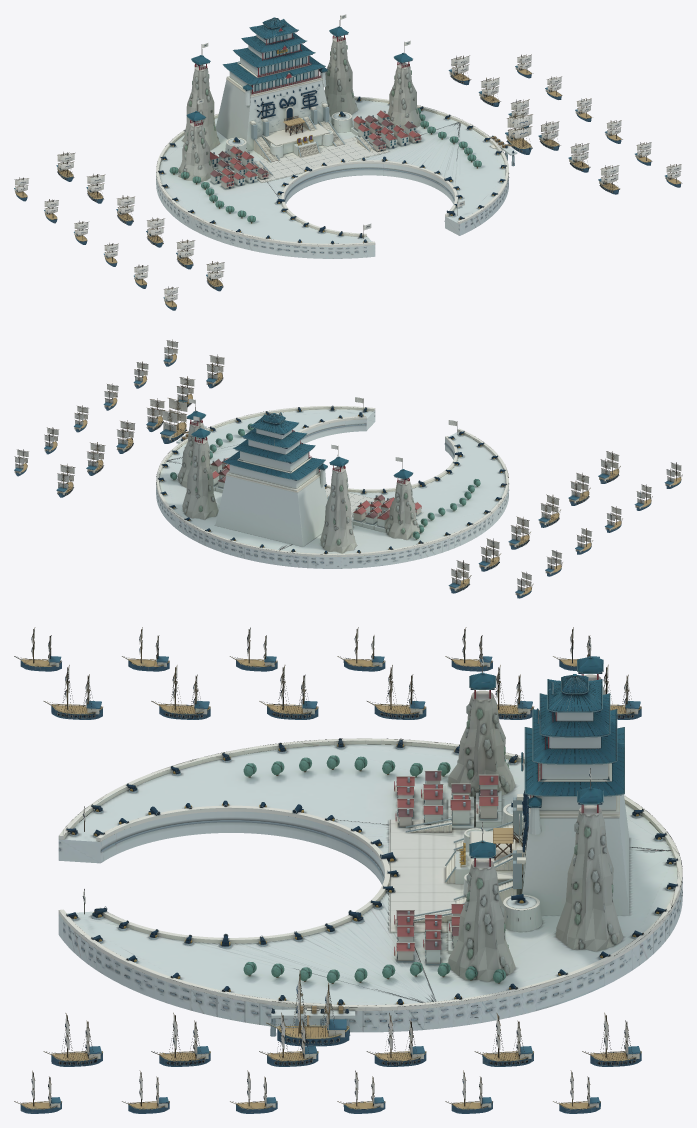
Rendered from marineford.glb.
The picture shows the model from 3 angles, top to bottom: view 1: azimuth 30°, elevation 25°; view 2: azimuth 150°, elevation 25°; view 3: azimuth 270°, elevation 25°; orthographic projection. The views are drawn at different scales.
Visible parts, largest first — view 1: ground-district-3-3, hq-district-3-2, terrace-district-3-3, wall-district-3-3, hq-district-3-3, town-district-4-3, pinnacle-district-4-2, pinnacle-district-3-2, town-district-3-3, wall-district-3-4, pinnacle-district-5-3, pinnacle-district-2-3 (+13 smaller); view 2: ground-district-3-3, hq-district-3-2, wall-district-3-3, pinnacle-district-3-2, pinnacle-district-4-2, fleet-district-1-3, pinnacle-district-2-3, fleet-district-6-3, fleet-district-1-4, fleet-district-6-4, fleet-district-1-5, town-district-3-3 (+7 smaller); view 3: ground-district-3-3, hq-district-3-2, wall-district-3-3, terrace-district-3-3, pinnacle-district-4-2, pinnacle-district-5-3, wall-district-3-4, town-district-3-3, pinnacle-district-2-3, hq-district-4-2, town-district-4-3, fleet-district-6-3 (+15 smaller).
Part boxes in pixels (x1,y1,x2,y2): ground-district-3-3: (156, 99, 508, 258); hq-district-3-2: (215, 17, 332, 150); terrace-district-3-3: (254, 123, 389, 182); wall-district-3-3: (156, 96, 508, 253); hq-district-3-3: (242, 30, 325, 139); town-district-4-3: (331, 110, 423, 151); pinnacle-district-4-2: (324, 14, 357, 116); pinnacle-district-3-2: (182, 43, 219, 150); town-district-3-3: (210, 137, 272, 186); wall-district-3-4: (275, 160, 457, 236); pinnacle-district-5-3: (387, 40, 421, 130); pinnacle-district-2-3: (178, 99, 213, 181); ground-district-3-3: (156, 409, 508, 568); hq-district-3-2: (215, 412, 327, 546); wall-district-3-3: (156, 406, 508, 563); pinnacle-district-3-2: (320, 444, 356, 553); pinnacle-district-4-2: (182, 416, 218, 519); fleet-district-1-3: (478, 516, 591, 576); pinnacle-district-2-3: (384, 457, 420, 539); fleet-district-6-3: (44, 405, 134, 475); fleet-district-1-4: (538, 473, 643, 542); fleet-district-6-4: (85, 376, 194, 431); fleet-district-1-5: (588, 451, 682, 510); town-district-3-3: (351, 494, 394, 532); ground-district-3-3: (58, 744, 682, 1032); hq-district-3-2: (521, 674, 629, 915); wall-district-3-3: (58, 738, 682, 1022); terrace-district-3-3: (389, 819, 522, 932); pinnacle-district-4-2: (556, 768, 623, 951); pinnacle-district-5-3: (448, 822, 515, 981); wall-district-3-4: (96, 800, 390, 943); town-district-3-3: (392, 774, 523, 832); pinnacle-district-2-3: (448, 653, 515, 797); hq-district-4-2: (525, 691, 624, 796); town-district-4-3: (392, 894, 541, 966); fleet-district-6-3: (343, 1013, 533, 1113).
Size of the model in its own units: 1046 by 241 by 652.
1 material, 1 textured.
